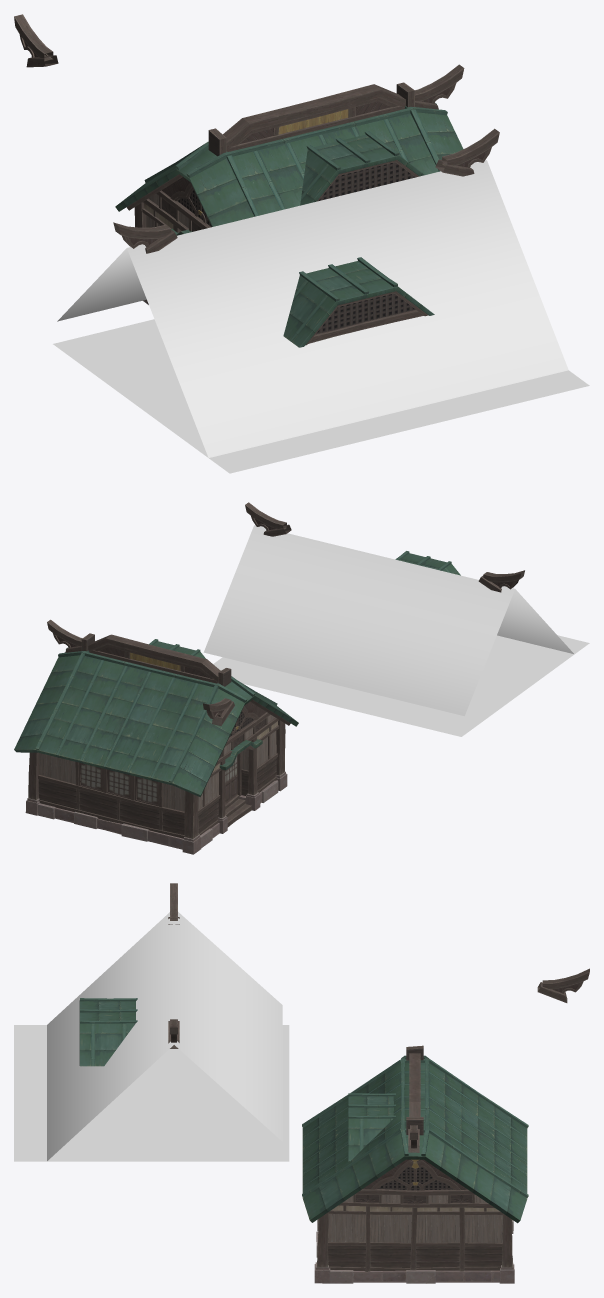
Rendered from Homeworld_Exterior_Dq_Build_House_12_Lod0.fbx.
3 renders of one model, top to bottom at view 1: azimuth 30°, elevation 25°; view 2: azimuth 150°, elevation 25°; view 3: azimuth 270°, elevation 25°, orthographic. The views are drawn at different scales.
Parts seen in each view (by area): view 1: Area_Dq_Build_Common_LowHouse_01_Ocl, Area_Dq_Build_Common_LowHouse_03_Lod0, Area_Dq_Build_Common_Comp_LowHouse_05_Vo (×2), Area_Dq_Prop_Common_Comp_LowHouse_01_Vo (×4); view 2: Area_Dq_Build_Common_LowHouse_01_Ocl, Area_Dq_Build_Common_LowHouse_03_Lod0, Area_Dq_Prop_Common_Comp_LowHouse_01_Vo (×4), Area_Dq_Build_Common_Comp_LowHouse_05_Vo; view 3: Area_Dq_Build_Common_LowHouse_01_Ocl, Area_Dq_Build_Common_LowHouse_03_Lod0, Area_Dq_Build_Common_Comp_LowHouse_05_Vo (×2), Area_Dq_Prop_Common_Comp_LowHouse_01_Vo.
Part boxes in pixels (x1,y1,x2,y2): Area_Dq_Build_Common_LowHouse_01_Ocl: [53, 160, 589, 473]; Area_Dq_Build_Common_LowHouse_03_Lod0: [115, 82, 463, 304]; Area_Dq_Build_Common_Comp_LowHouse_05_Vo (×2): [283, 131, 434, 347]; Area_Dq_Prop_Common_Comp_LowHouse_01_Vo (×4): [14, 14, 499, 253]; Area_Dq_Build_Common_LowHouse_01_Ocl: [203, 525, 589, 736]; Area_Dq_Build_Common_LowHouse_03_Lod0: [14, 633, 298, 854]; Area_Dq_Prop_Common_Comp_LowHouse_01_Vo (×4): [47, 502, 524, 725]; Area_Dq_Build_Common_Comp_LowHouse_05_Vo: [395, 551, 460, 575]; Area_Dq_Build_Common_LowHouse_01_Ocl: [14, 912, 289, 1161]; Area_Dq_Build_Common_LowHouse_03_Lod0: [302, 1045, 528, 1283]; Area_Dq_Build_Common_Comp_LowHouse_05_Vo (×2): [79, 998, 395, 1161]; Area_Dq_Prop_Common_Comp_LowHouse_01_Vo: [537, 968, 589, 1002].
Size of what is drawn, in the model's own units: 17.46 by 9.63 by 22.4.
